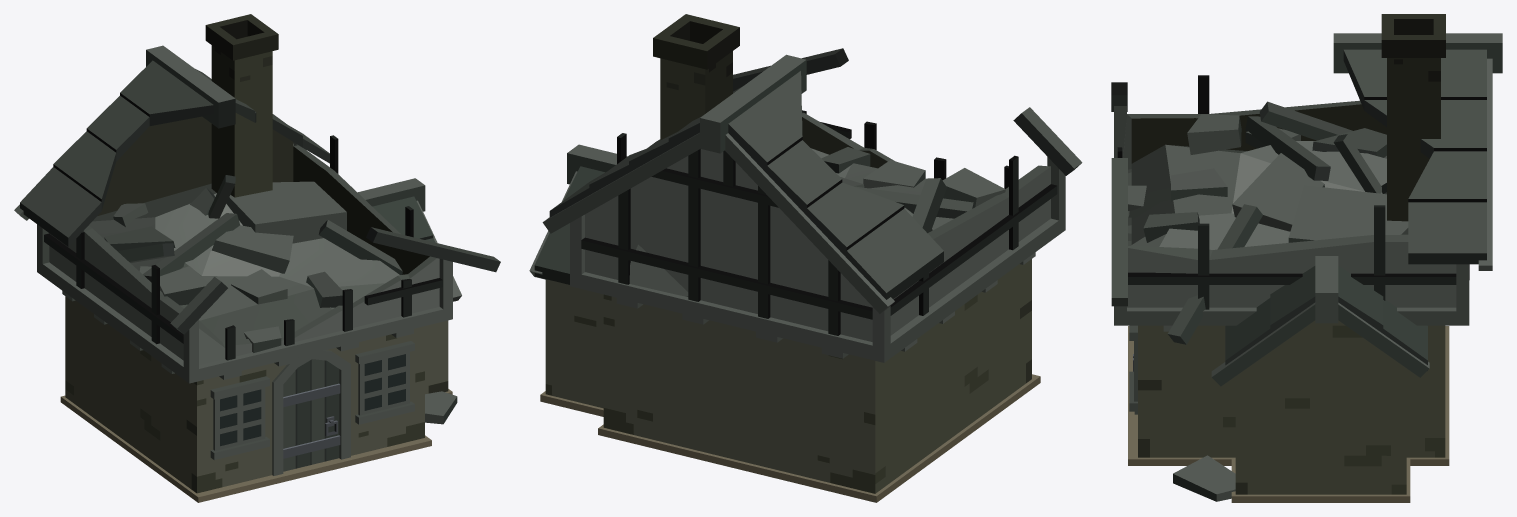
The model's file is Model_Undead_3x3B.fbx.
The picture shows the model from 3 angles, left to right: view 1: azimuth 30°, elevation 25°; view 2: azimuth 150°, elevation 25°; view 3: azimuth 270°, elevation 25°; orthographic projection. The views are drawn at different scales.
Parts seen in each view (by area): view 1: Model_Frost_3x3B; view 2: Model_Frost_3x3B; view 3: Model_Frost_3x3B.
Part boxes in pixels (x1=…): Model_Frost_3x3B: x1=14, y1=14, x2=500, y2=502; Model_Frost_3x3B: x1=529, y1=14, x2=1082, y2=502; Model_Frost_3x3B: x1=1111, y1=14, x2=1502, y2=502.
Bounding box in the file's own units: 612 × 598 × 530.
Materials: 1 (1 with a texture image).
